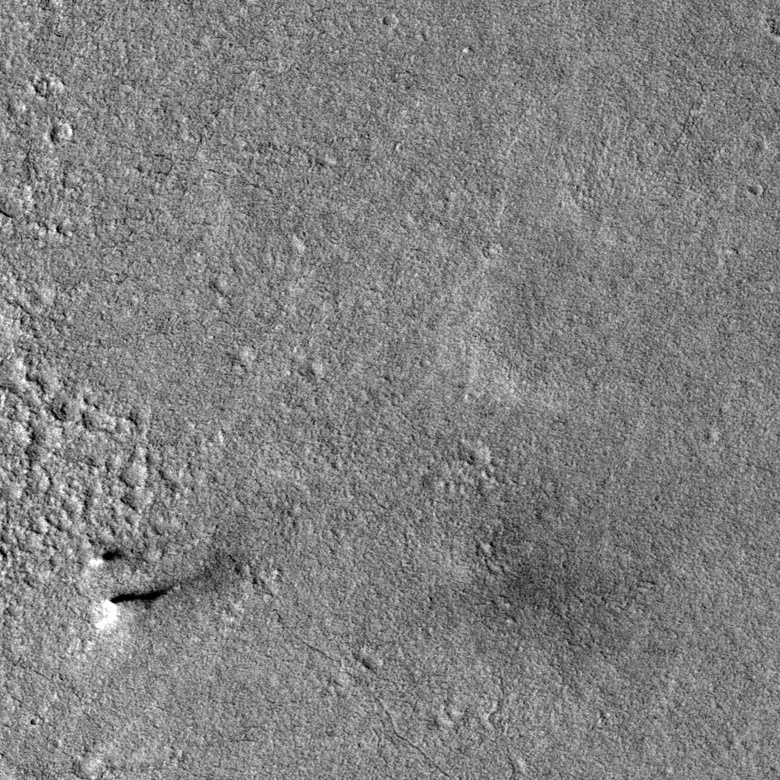dust_devil: (92, 584, 175, 630), (86, 544, 128, 569)
